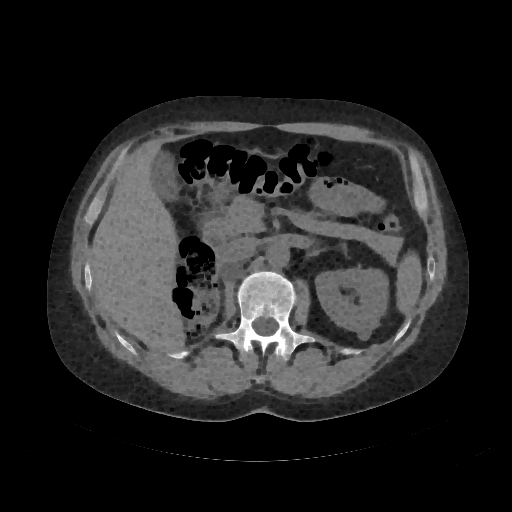Lesion: (353, 327, 373, 342)
